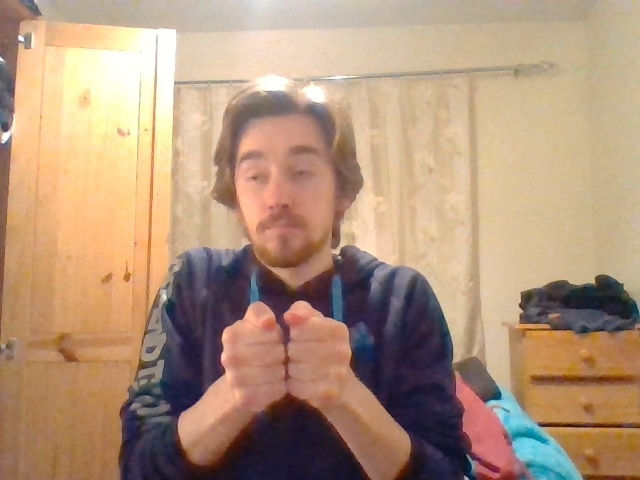brother: (221, 300, 351, 402)
